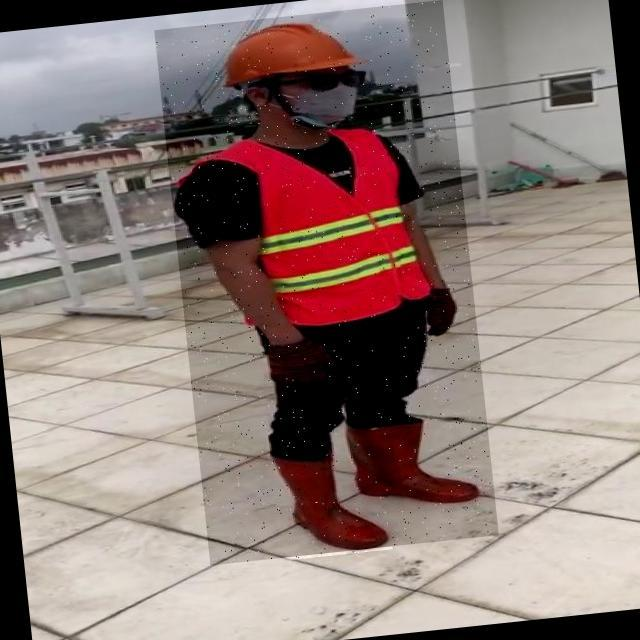Gloves: (266, 337, 336, 390), (430, 288, 463, 338)
Helmet: (213, 15, 361, 90)
Human: (153, 0, 498, 565)
Safety Boot: (274, 443, 394, 560), (342, 412, 480, 512)
Safety Vest: (234, 121, 431, 334)
